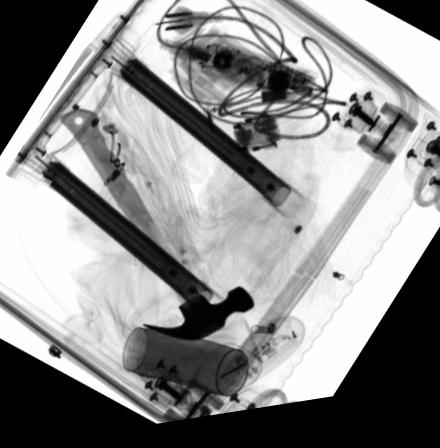Hammer: (56, 110, 254, 346)
